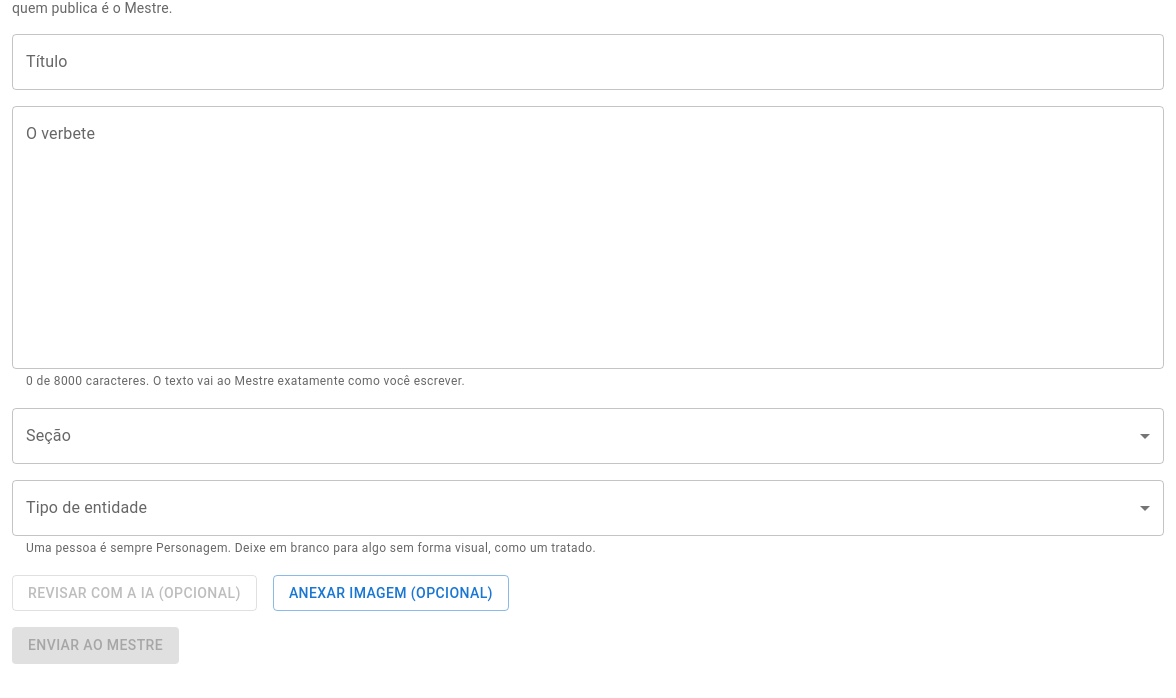
Test: o que a revisão mostra › mostra contradição com o cânone como aviso, não como erro
Type "Sera de Vargen" into the field labelled "Título". click: point(588, 62)
box: [12,34,1164,90]
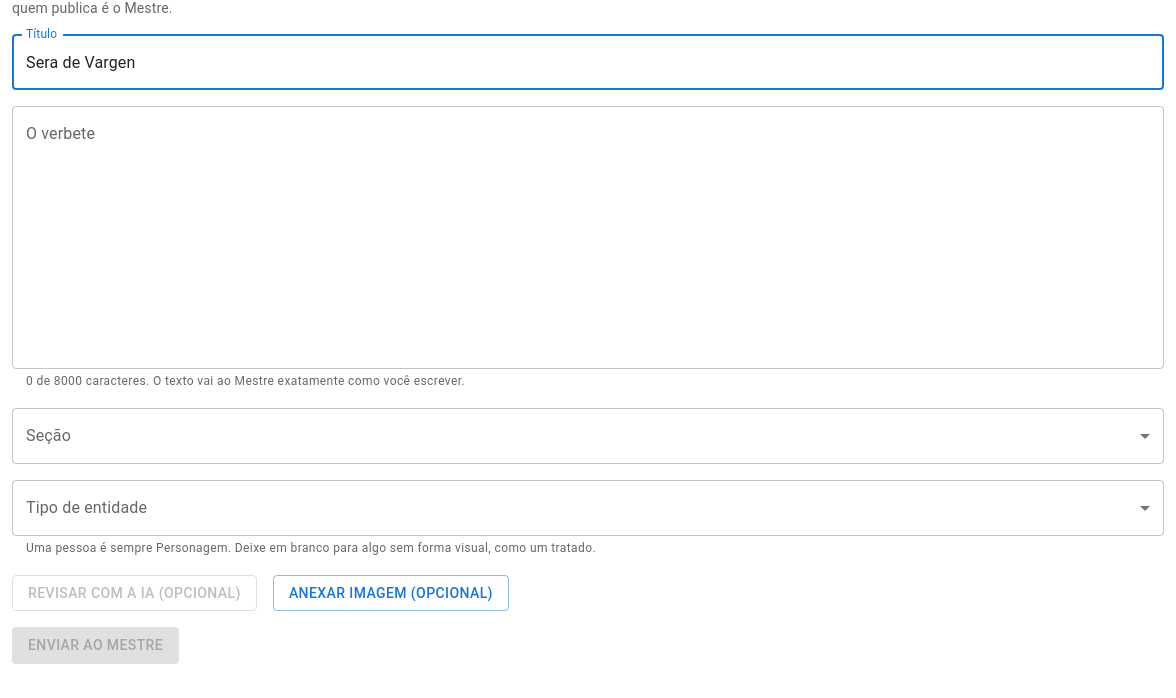
Type "Batedora das fronteiras do Norte, conhecida por atravessar o Muro dos Ausentes sozinha em pleno inverno." into the text box labelled "O verbete". click: point(588, 238)
box: [26,122,1150,352]
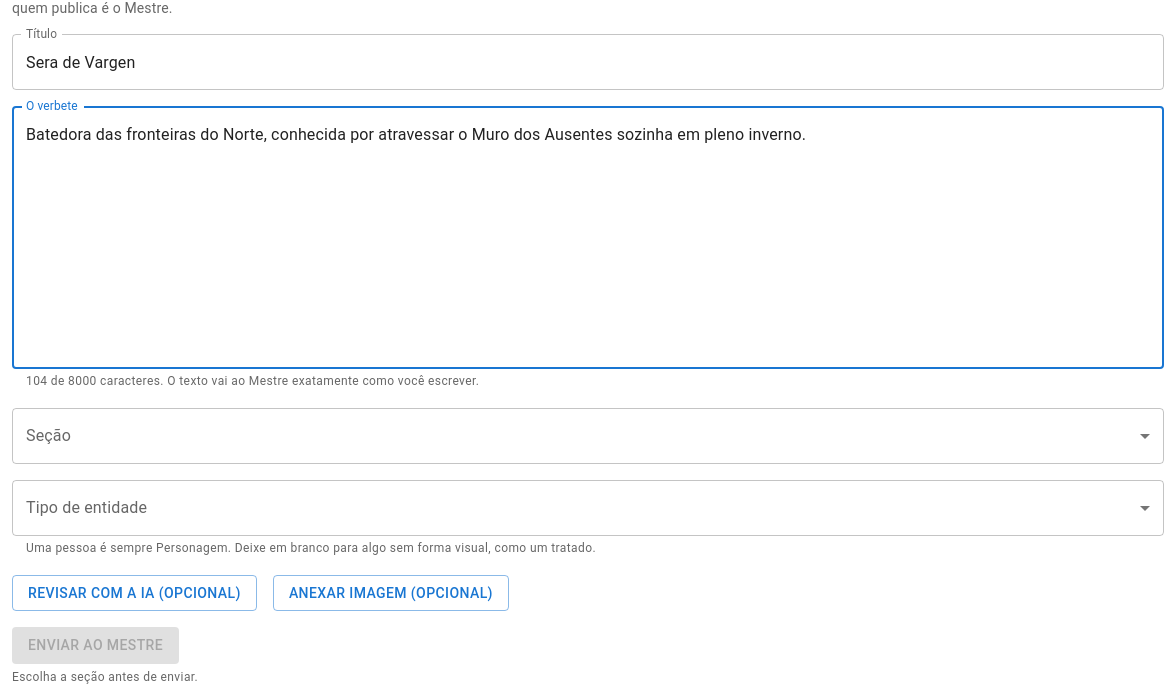
Click the button "Revisar com a IA (opcional)". click: point(134, 593)
box: [12,575,257,611]
(page scrolled)
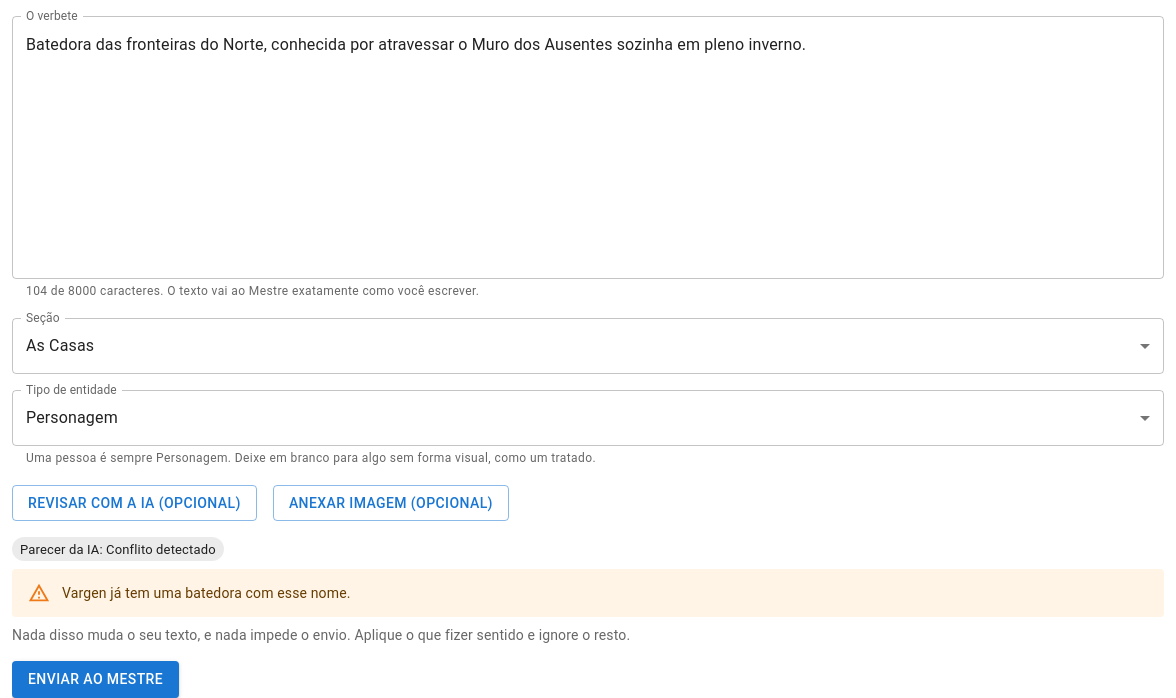
Result: the button "Enviar ao Mestre" is enabled at [12,661,179,697]
